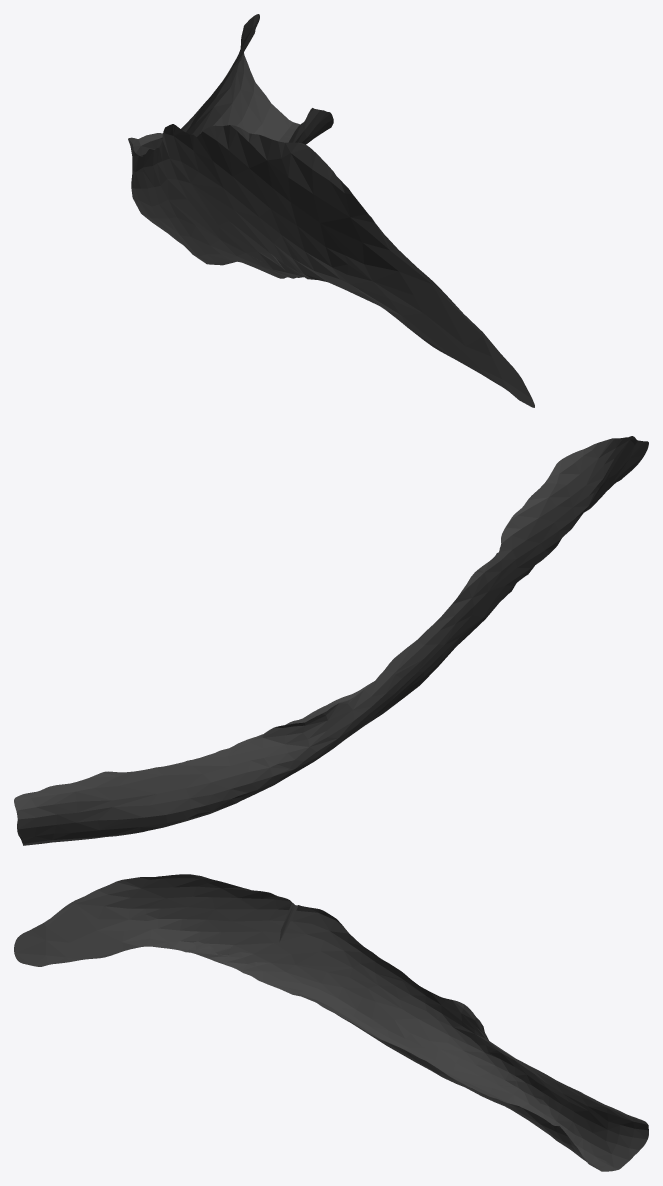
The model's file is vein_median_cubital.glb.
3 views of the same model, one above another, from view 1: azimuth 30°, elevation 25°; view 2: azimuth 150°, elevation 25°; view 3: azimuth 270°, elevation 25° (orthographic). The views are drawn at different scales.
Parts seen in each view (by area): view 1: vein_median_cubital; view 2: vein_median_cubital; view 3: vein_median_cubital.
Part boxes in pixels (x1,y1,x2,y2): vein_median_cubital: [128, 14, 534, 407]; vein_median_cubital: [14, 436, 648, 845]; vein_median_cubital: [14, 874, 648, 1171].
Size of the model in its own units: 0.0663 by 0.0566 by 0.1669.
Materials: 1 (1 with a texture image).
